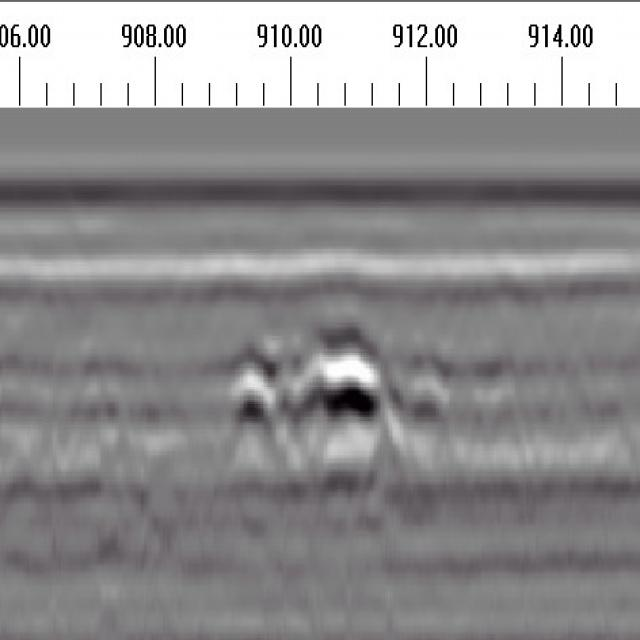loose: (226, 315, 481, 481)
